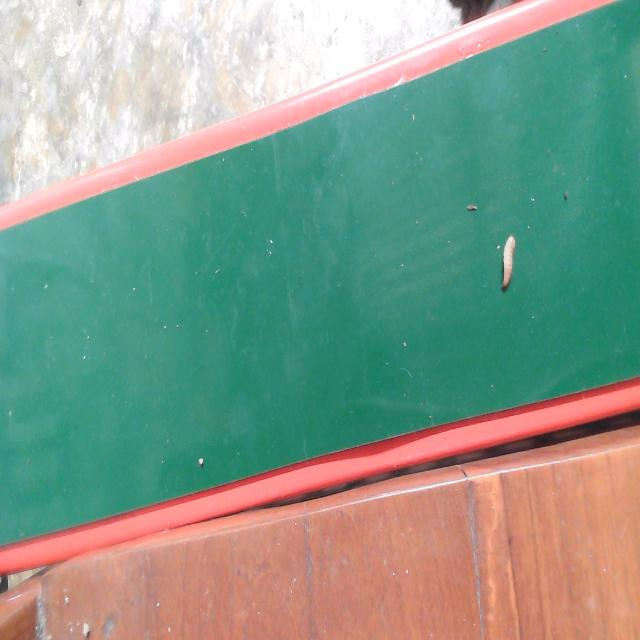Maggot: (500, 236, 518, 293)
